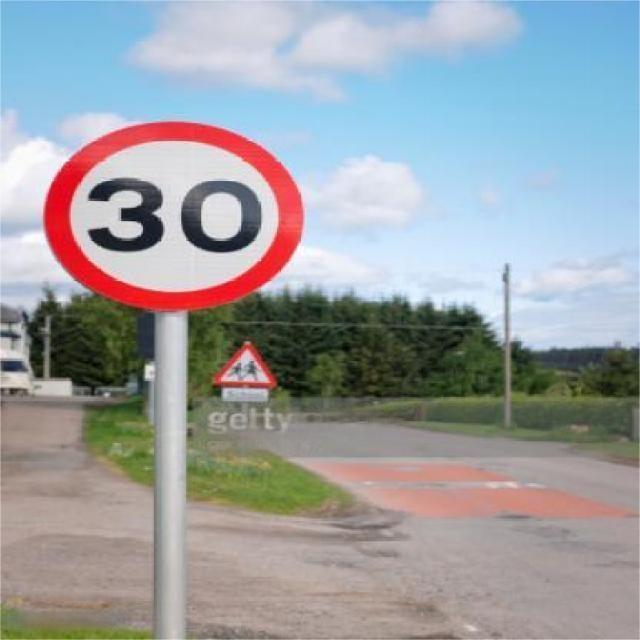speed limit 30: (43, 119, 306, 313)
